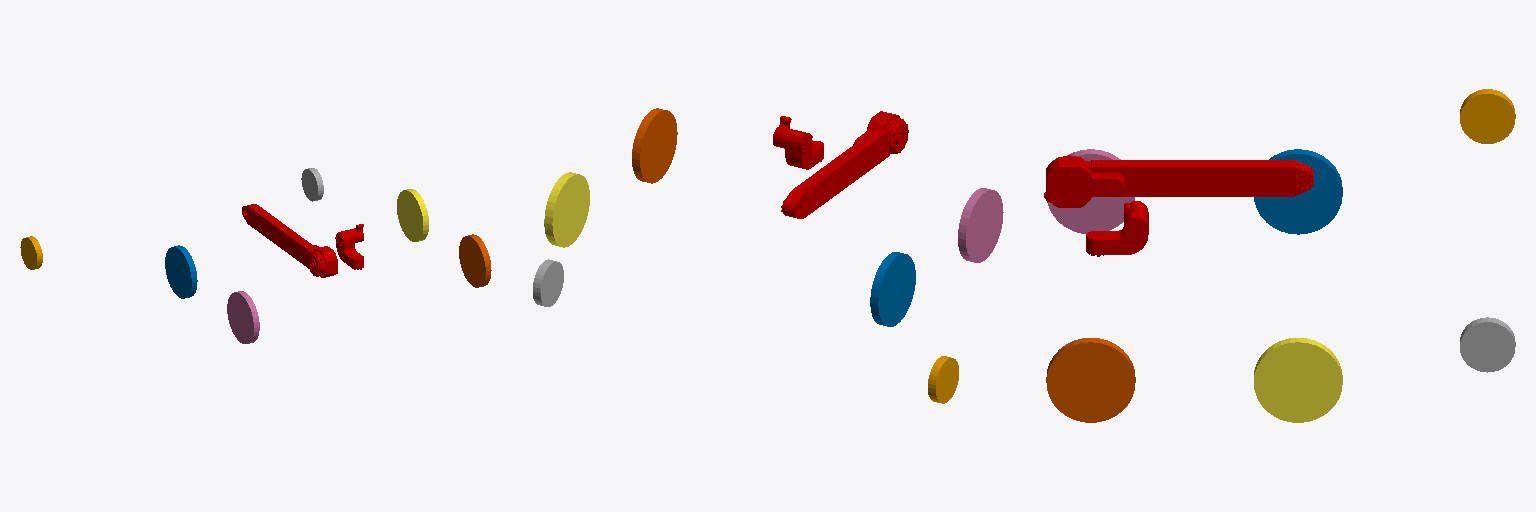
URDF robot description (eng):
<?xml version="1.0" ?>
<!-- =================================================================================== -->
<!-- |    This document was autogenerated by xacro from eng.xacro                    | -->
<!-- |    EDITING THIS FILE BY HAND IS NOT RECOMMENDED                                 | -->
<!-- =================================================================================== -->
<!-- Revolute-Revolute Manipulator -->
<robot name="eng" xmlns:xacro="http://www.ros.org/wiki/xacro">
  <!-- Constants for robot dimensions -->
  <!-- Square dimensions (width x width) of beams  0.1-->
  <!--was 0.397-->
  <!--was 0.1789-->
  <!-- old 0.102 is double radius without ground_clearance 0.07683 -->
  <!--was 0.09-->
  <!--was 0.09-->
  <!--old 0.05 0.02517-->
  <!-- ros_control plugin -->
  <gazebo>
    <plugin filename="libgazebo_ros_control.so" name="gazebo_ros_control">
      <robotNamespace>/eng</robotNamespace>
      <robotSimType>gazebo_ros_control/DefaultRobotHWSim</robotSimType>
    </plugin>
  </gazebo>
  <gazebo reference="base_link">
    <material>Gazebo/Orange</material>
  </gazebo>
  <gazebo reference="left_flipper">
    <mu1>0.01</mu1>
    <mu2>0.01</mu2>
    <material>Gazebo/Grey</material>
  </gazebo>
  <gazebo reference="right_flipper">
    <mu1>0.01</mu1>
    <mu2>0.01</mu2>
    <material>Gazebo/Grey</material>
  </gazebo>
  <gazebo reference="right_front_base_link">
    <mu1>10000</mu1>
    <mu2>10000</mu2>
    <material>Gazebo/Grey</material>
  </gazebo>
  <gazebo reference="left_front_base_link_wheel">
    <mu1>10000</mu1>
    <mu2>10000</mu2>
    <material>Gazebo/Grey</material>
  </gazebo>
  <gazebo reference="right_rear_base_link_wheel">
    <mu1>10000</mu1>
    <mu2>10000</mu2>
    <material>Gazebo/Grey</material>
  </gazebo>
  <gazebo reference="left_rear_base_link_wheel">
    <mu1>10000</mu1>
    <mu2>10000</mu2>
    <material>Gazebo/Grey</material>
  </gazebo>
  <gazebo reference="right_flipper_wheel">
    <mu1>10000</mu1>
    <mu2>10000</mu2>
    <material>Gazebo/Grey</material>
  </gazebo>
  <gazebo reference="left_flipper_wheel">
    <mu1>10000</mu1>
    <mu2>10000</mu2>
    <material>Gazebo/Grey</material>
  </gazebo>
  <material name="black">
    <color rgba="0.0 0.0 0.0 1.0"/>
  </material>
  <material name="blue">
    <color rgba="0.0 0.0 0.8 1.0"/>
  </material>
  <material name="green">
    <color rgba="0.0 0.8 0.0 1.0"/>
  </material>
  <material name="grey">
    <color rgba="0.2 0.2 0.2 1.0"/>
  </material>
  <material name="orange">
    <color rgba="1.0 0.423529411765 0.0392156862745 1.0"/>
  </material>
  <material name="brown">
    <color rgba="0.870588235294 0.811764705882 0.764705882353 1.0"/>
  </material>
  <material name="red">
    <color rgba="0.8 0.0 0.0 1.0"/>
  </material>
  <material name="white">
    <color rgba="1.0 1.0 1.0 1.0"/>
  </material>
  <link name="base_link">
    <visual>
      <origin rpy="0 0 0" xyz="0 0 0"/>
      <geometry>
        <mesh filename="package://eng_description/meshes/Base.dae" scale="1 1 1"/>
      </geometry>
      <material name="orange"/>
      --&gt;

    </visual>
    <collision>
      <origin rpy="0 0 0" xyz="0 0 0"/>
      <geometry>
        <mesh filename="package://eng_description/meshes/Base.dae" scale="1 1 1"/>
      </geometry>
    </collision>
    <inertial>
      <origin rpy="0 0 0" xyz="0 0 0"/>
      <mass value="10"/>
      <inertia ixx="1" ixy="0.0" ixz="0.0" iyy="1" iyz="0.0" izz="1"/>
    </inertial>
  </link>
  <link name="right_flipper">
    <visual>
      <origin rpy="0 0 0" xyz="0 0 0"/>
      <geometry>
        <mesh filename="package://eng_description/meshes/Flipper.dae" scale="1 1 1"/>
      </geometry>
      <material name="black"/>
      --&gt;

    </visual>
    <collision>
      <origin rpy="0 0 0" xyz="0 0 0"/>
      <geometry>
        <mesh filename="package://eng_description/meshes/Flipper.dae" scale="1 1 1"/>
      </geometry>
    </collision>
    <inertial>
      <origin rpy="0 0 0" xyz="0 0 0"/>
      <mass value="0.775"/>
      <inertia ixx="1" ixy="0.0" ixz="0.0" iyy="1" iyz="0.0" izz="1"/>
    </inertial>
  </link>
  <joint name="joint_right_flipper" type="revolute">
    <parent link="base_link"/>
    <child link="right_flipper"/>
    <origin rpy="0 0 0" xyz="2.2 1.86 -0.25"/>
    <axis xyz="1 0 0"/>
    <limit effort="100" lower="-6.283" upper="6.283" velocity="100"/>
  </joint>
  <transmission name="tran_joint_right_flipper">
    <type>transmission_interface/SimpleTransmission</type>
    <joint name="joint_right_flipper">
      <hardwareInterface>EffortJointInterface</hardwareInterface>
    </joint>
    <actuator name="motor_joint_right_flipper">
      <hardwareInterface>EffortJointInterface</hardwareInterface>
      <mechanicalReduction>1</mechanicalReduction>
    </actuator>
  </transmission>
  <link name="left_flipper">
    <visual>
      <origin rpy="0 0 0" xyz="0 0 0"/>
      <geometry>
        <mesh filename="package://eng_description/meshes/Flipper.dae" scale="1 1 1"/>
      </geometry>
      <material name="black"/>
      --&gt;

    </visual>
    <collision>
      <origin rpy="0 0 0" xyz="0 0 0"/>
      <geometry>
        <mesh filename="package://eng_description/meshes/Flipper.dae" scale="1 1 1"/>
      </geometry>
    </collision>
    <inertial>
      <origin rpy="0 0 0" xyz="0 0 0"/>
      <mass value="0.775"/>
      <inertia ixx="1" ixy="0.0" ixz="0.0" iyy="1" iyz="0.0" izz="1"/>
    </inertial>
  </link>
  <joint name="joint_left_flipper" type="revolute">
    <parent link="base_link"/>
    <child link="left_flipper"/>
    <origin rpy="0 3.1415 0" xyz="-2.2 1.86 -0.25"/>
    <axis xyz="1 0 0"/>
    <limit effort="100" lower="-6.283" upper="6.283" velocity="100"/>
  </joint>
  <transmission name="tran_joint_left_flipper">
    <type>transmission_interface/SimpleTransmission</type>
    <joint name="joint_left_flipper">
      <hardwareInterface>EffortJointInterface</hardwareInterface>
    </joint>
    <actuator name="motor_joint_left_flipper">
      <hardwareInterface>EffortJointInterface</hardwareInterface>
      <mechanicalReduction>1</mechanicalReduction>
    </actuator>
  </transmission>
  <link name="right_front_base_link_wheel">
    <visual>
      <origin rpy="0 0 0" xyz="0 0 0"/>
      <geometry>
        <cylinder length="0.2" radius="0.8"/>
      </geometry>
    </visual>
    <collision>
      <origin rpy="0 0 0" xyz="0 0 0"/>
      <geometry>
        <cylinder length="0.2" radius="0.8"/>
      </geometry>
    </collision>
    <inertial>
      <origin rpy="0 0 0" xyz="0 0 0"/>
      <mass value="0.0001"/>
      <inertia ixx="1" ixy="0.0" ixz="0.0" iyy="1" iyz="0.0" izz="1"/>
    </inertial>
  </link>
  <joint name="joint_right_front_base_link_wheel" type="continuous">
    <parent link="base_link"/>
    <child link="right_front_base_link_wheel"/>
    <origin rpy="0 1.57075 3.1415" xyz="4 1.86 -0.25"/>
    <axis xyz="0 0 1"/>
    <limit effort="100" velocity="20"/>
  </joint>
  <transmission name="tran_joint_right_front_base_link_wheel">
    <type>transmission_interface/SimpleTransmission</type>
    <joint name="joint_right_front_base_link_wheel">
      <hardwareInterface>VelocityJointInterface</hardwareInterface>
    </joint>
    <actuator name="motor_joint_right_front_base_link_wheel">
      <hardwareInterface>VelocityJointInterface</hardwareInterface>
      <mechanicalReduction>1</mechanicalReduction>
    </actuator>
  </transmission>
  <link name="left_front_base_link_wheel">
    <visual>
      <origin rpy="0 0 0" xyz="0 0 0"/>
      <geometry>
        <cylinder length="0.2" radius="0.8"/>
      </geometry>
    </visual>
    <collision>
      <origin rpy="0 0 0" xyz="0 0 0"/>
      <geometry>
        <cylinder length="0.2" radius="0.8"/>
      </geometry>
    </collision>
    <inertial>
      <origin rpy="0 0 0" xyz="0 0 0"/>
      <mass value="0.0001"/>
      <inertia ixx="1" ixy="0.0" ixz="0.0" iyy="1" iyz="0.0" izz="1"/>
    </inertial>
  </link>
  <joint name="joint_left_front_base_link_wheel" type="continuous">
    <parent link="base_link"/>
    <child link="left_front_base_link_wheel"/>
    <origin rpy="0 1.57075 3.1415" xyz="-4 1.86 -0.25"/>
    <axis xyz="0 0 1"/>
    <limit effort="100" velocity="20"/>
  </joint>
  <transmission name="tran_joint_left_front_base_link_wheel">
    <type>transmission_interface/SimpleTransmission</type>
    <joint name="joint_left_front_base_link_wheel">
      <hardwareInterface>VelocityJointInterface</hardwareInterface>
    </joint>
    <actuator name="motor_joint_left_front_base_link_wheel">
      <hardwareInterface>VelocityJointInterface</hardwareInterface>
      <mechanicalReduction>1</mechanicalReduction>
    </actuator>
  </transmission>
  <link name="right_rear_base_link_wheel">
    <visual>
      <origin rpy="0 0 0" xyz="0 0 0"/>
      <geometry>
        <cylinder length="0.2" radius="0.8"/>
      </geometry>
    </visual>
    <collision>
      <origin rpy="0 0 0" xyz="0 0 0"/>
      <geometry>
        <cylinder length="0.2" radius="0.8"/>
      </geometry>
    </collision>
    <inertial>
      <origin rpy="0 0 0" xyz="0 0 0"/>
      <mass value="0.0001"/>
      <inertia ixx="1" ixy="0.0" ixz="0.0" iyy="1" iyz="0.0" izz="1"/>
    </inertial>
  </link>
  <joint name="joint_right_rear_base_link_wheel" type="continuous">
    <parent link="base_link"/>
    <child link="right_rear_base_link_wheel"/>
    <origin rpy="0 1.57075 3.1415" xyz="4 -1.86 -0.25"/>
    <axis xyz="0 0 1"/>
    <limit effort="100" velocity="20"/>
  </joint>
  <transmission name="tran_joint_right_rear_base_link_wheel">
    <type>transmission_interface/SimpleTransmission</type>
    <joint name="joint_right_rear_base_link_wheel">
      <hardwareInterface>VelocityJointInterface</hardwareInterface>
    </joint>
    <actuator name="motor_joint_right_rear_base_link_wheel">
      <hardwareInterface>VelocityJointInterface</hardwareInterface>
      <mechanicalReduction>1</mechanicalReduction>
    </actuator>
  </transmission>
  <link name="left_rear_base_link_wheel">
    <visual>
      <origin rpy="0 0 0" xyz="0 0 0"/>
      <geometry>
        <cylinder length="0.2" radius="0.8"/>
      </geometry>
    </visual>
    <collision>
      <origin rpy="0 0 0" xyz="0 0 0"/>
      <geometry>
        <cylinder length="0.2" radius="0.8"/>
      </geometry>
    </collision>
    <inertial>
      <origin rpy="0 0 0" xyz="0 0 0"/>
      <mass value="0.0001"/>
      <inertia ixx="1" ixy="0.0" ixz="0.0" iyy="1" iyz="0.0" izz="1"/>
    </inertial>
  </link>
  <joint name="joint_left_rear_base_link_wheel" type="continuous">
    <parent link="base_link"/>
    <child link="left_rear_base_link_wheel"/>
    <origin rpy="0 1.57075 3.1415" xyz="-4 -1.86 -0.25"/>
    <axis xyz="0 0 1"/>
    <limit effort="100" velocity="20"/>
  </joint>
  <transmission name="tran_joint_left_rear_base_link_wheel">
    <type>transmission_interface/SimpleTransmission</type>
    <joint name="joint_left_rear_base_link_wheel">
      <hardwareInterface>VelocityJointInterface</hardwareInterface>
    </joint>
    <actuator name="motor_joint_left_rear_base_link_wheel">
      <hardwareInterface>VelocityJointInterface</hardwareInterface>
      <mechanicalReduction>1</mechanicalReduction>
    </actuator>
  </transmission>
  <link name="right_flipper_wheel">
    <visual>
      <origin rpy="0 0 0" xyz="0 0 0"/>
      <geometry>
        <cylinder length="0.2" radius="0.5"/>
      </geometry>
    </visual>
    <collision>
      <origin rpy="0 0 0" xyz="0 0 0"/>
      <geometry>
        <cylinder length="0.2" radius="0.5"/>
      </geometry>
    </collision>
    <inertial>
      <origin rpy="0 0 0" xyz="0 0 0"/>
      <mass value="0.0001"/>
      <inertia ixx="1" ixy="0.0" ixz="0.0" iyy="1" iyz="0.0" izz="1"/>
    </inertial>
  </link>
  <joint name="joint_right_flipper_wheel" type="continuous">
    <parent link="right_flipper"/>
    <child link="right_flipper_wheel"/>
    <origin rpy="0 1.57075 3.1415" xyz="0.3 3.4 0"/>
    <axis xyz="0 0 1"/>
    <limit effort="100" velocity="20"/>
  </joint>
  <transmission name="tran_joint_right_flipper_wheel">
    <type>transmission_interface/SimpleTransmission</type>
    <joint name="joint_right_flipper_wheel">
      <hardwareInterface>VelocityJointInterface</hardwareInterface>
    </joint>
    <actuator name="motor_joint_right_flipper_wheel">
      <hardwareInterface>VelocityJointInterface</hardwareInterface>
      <mechanicalReduction>1</mechanicalReduction>
    </actuator>
  </transmission>
  <link name="left_flipper_wheel">
    <visual>
      <origin rpy="0 0 0" xyz="0 0 0"/>
      <geometry>
        <cylinder length="0.2" radius="0.5"/>
      </geometry>
    </visual>
    <collision>
      <origin rpy="0 0 0" xyz="0 0 0"/>
      <geometry>
        <cylinder length="0.2" radius="0.5"/>
      </geometry>
    </collision>
    <inertial>
      <origin rpy="0 0 0" xyz="0 0 0"/>
      <mass value="0.0001"/>
      <inertia ixx="1" ixy="0.0" ixz="0.0" iyy="1" iyz="0.0" izz="1"/>
    </inertial>
  </link>
  <joint name="joint_left_flipper_wheel" type="continuous">
    <parent link="left_flipper"/>
    <child link="left_flipper_wheel"/>
    <origin rpy="0 1.57075 3.1415" xyz="5 3.4 0"/>
    <axis xyz="0 0 1"/>
    <limit effort="100" velocity="20"/>
  </joint>
  <transmission name="tran_joint_left_flipper_wheel">
    <type>transmission_interface/SimpleTransmission</type>
    <joint name="joint_left_flipper_wheel">
      <hardwareInterface>VelocityJointInterface</hardwareInterface>
    </joint>
    <actuator name="motor_joint_left_flipper_wheel">
      <hardwareInterface>VelocityJointInterface</hardwareInterface>
      <mechanicalReduction>1</mechanicalReduction>
    </actuator>
  </transmission>
  <link name="cronstein">
    <visual>
      <origin rpy="0 0 0" xyz="0 0 0"/>
      <geometry>
        <mesh filename="package://eng_description/meshes/cronstain2.dae" scale="1 1 1"/>
      </geometry>
      <material name="red"/>
      --&gt;

    </visual>
    <collision>
      <origin rpy="0 0 0" xyz="0 0 0"/>
      <geometry>
        <mesh filename="package://eng_description/meshes/cronstain2.dae" scale="1 1 1"/>
      </geometry>
    </collision>
    <inertial>
      <origin rpy="0 0 0" xyz="0 0 0"/>
      <mass value="0.477"/>
      <inertia ixx="1" ixy="0.0" ixz="0.0" iyy="1" iyz="0.0" izz="1"/>
    </inertial>
  </link>
  <joint name="joint_cronstein" type="revolute">
    <parent link="base_link"/>
    <child link="cronstein"/>
    <origin rpy="0 1.57075 1.57075" xyz="0 -1.75 0.6"/>
    <axis xyz="1 0 0"/>
    <limit effort="100" lower="-6.283" upper="6.283" velocity="100"/>
  </joint>
  <transmission name="tran_joint_cronstein">
    <type>transmission_interface/SimpleTransmission</type>
    <joint name="joint_cronstein">
      <hardwareInterface>EffortJointInterface</hardwareInterface>
    </joint>
    <actuator name="motor_joint_cronstein">
      <hardwareInterface>EffortJointInterface</hardwareInterface>
      <mechanicalReduction>1</mechanicalReduction>
    </actuator>
  </transmission>
  <!--x="0.5" y="-1.05" z="1.1" roll="0" pitch="${PI*0.5}" yaw="${PI*0.5}" axis="0 0 1"/>-->
  <link name="first_part">
    <visual>
      <origin rpy="0 0 0" xyz="0 0 0"/>
      <geometry>
        <mesh filename="package://eng_description/meshes/first_part_of_arm.dae" scale="0.01 0.01 0.01"/>
      </geometry>
      <material name="red"/>
      --&gt;

    </visual>
    <collision>
      <origin rpy="0 0 0" xyz="0 0 0"/>
      <geometry>
        <mesh filename="package://eng_description/meshes/first_part_of_arm.dae" scale="0.01 0.01 0.01"/>
      </geometry>
    </collision>
    <inertial>
      <origin rpy="0 0 0" xyz="0 0 0"/>
      <mass value="2.231"/>
      <inertia ixx="1" ixy="0.0" ixz="0.0" iyy="1" iyz="0.0" izz="1"/>
    </inertial>
  </link>
  <joint name="joint_first_part" type="revolute">
    <parent link="cronstein"/>
    <child link="first_part"/>
    <origin rpy="3.1415 3.1415 1.57075" xyz="-0.54 0.25 0.7"/>
    <axis xyz="1 0 0"/>
    <limit effort="100" lower="-6.283" upper="6.283" velocity="100"/>
  </joint>
  <transmission name="tran_joint_first_part">
    <type>transmission_interface/SimpleTransmission</type>
    <joint name="joint_first_part">
      <hardwareInterface>EffortJointInterface</hardwareInterface>
    </joint>
    <actuator name="motor_joint_first_part">
      <hardwareInterface>EffortJointInterface</hardwareInterface>
      <mechanicalReduction>1</mechanicalReduction>
    </actuator>
  </transmission>
  <link name="second_part">
    <visual>
      <origin rpy="0 0 0" xyz="0 0 0"/>
      <geometry>
        <mesh filename="package://eng_description/meshes/second_part_of_arm.dae" scale="0.01 0.01 0.01"/>
      </geometry>
      <material name="red"/>
      --&gt;

    </visual>
    <collision>
      <origin rpy="0 0 0" xyz="0 0 0"/>
      <geometry>
        <mesh filename="package://eng_description/meshes/second_part_of_arm.dae" scale="0.01 0.01 0.01"/>
      </geometry>
    </collision>
    <inertial>
      <origin rpy="0 0 0" xyz="0 0 0"/>
      <mass value="2.231"/>
      <inertia ixx="1" ixy="0.0" ixz="0.0" iyy="1" iyz="0.0" izz="1"/>
    </inertial>
  </link>
  <joint name="joint_second_part" type="revolute">
    <parent link="first_part"/>
    <child link="second_part"/>
    <origin rpy="0 0 3.1415" xyz="-1.5 0 3"/>
    <axis xyz="1 0 0"/>
    <limit effort="100" lower="-6.283" upper="6.283" velocity="100"/>
  </joint>
  <transmission name="tran_joint_second_part">
    <type>transmission_interface/SimpleTransmission</type>
    <joint name="joint_second_part">
      <hardwareInterface>EffortJointInterface</hardwareInterface>
    </joint>
    <actuator name="motor_joint_second_part">
      <hardwareInterface>EffortJointInterface</hardwareInterface>
      <mechanicalReduction>1</mechanicalReduction>
    </actuator>
  </transmission>
  <link name="head">
    <visual>
      <origin rpy="0 0 0" xyz="0 0 0"/>
      <geometry>
        <mesh filename="package://eng_description/meshes/head.dae" scale="0.01 0.01 0.01"/>
      </geometry>
      <material name="red"/>
      --&gt;

    </visual>
    <collision>
      <origin rpy="0 0 0" xyz="0 0 0"/>
      <geometry>
        <mesh filename="package://eng_description/meshes/head.dae" scale="0.01 0.01 0.01"/>
      </geometry>
    </collision>
    <inertial>
      <origin rpy="0 0 0" xyz="0 0 0"/>
      <mass value="2.231"/>
      <inertia ixx="1" ixy="0.0" ixz="0.0" iyy="1" iyz="0.0" izz="1"/>
    </inertial>
  </link>
  <joint name="joint_head" type="revolute">
    <parent link="second_part"/>
    <child link="head"/>
    <origin rpy="3.1415 0.0 3.1415" xyz="0.5 0 -4.2"/>
    <axis xyz="1 0 0"/>
    <limit effort="100" lower="-6.283" upper="6.283" velocity="100"/>
  </joint>
  <transmission name="tran_joint_head">
    <type>transmission_interface/SimpleTransmission</type>
    <joint name="joint_head">
      <hardwareInterface>EffortJointInterface</hardwareInterface>
    </joint>
    <actuator name="motor_joint_head">
      <hardwareInterface>EffortJointInterface</hardwareInterface>
      <mechanicalReduction>1</mechanicalReduction>
    </actuator>
  </transmission>
</robot>

--- Facts derived from the render (not from the file) ---
Views: 3 orthographic renders of the robot side by side, from view 1: azimuth 30°, elevation 25°; view 2: azimuth 150°, elevation 25°; view 3: azimuth 270°, elevation 25°.
Model eng with 13 links and 12 joints (6 revolute, 6 continuous), rooted at base_link, posed every joint at zero.
Visible links, largest first — view 1: second_part, left_rear_base_link_wheel, right_front_base_link_wheel, left_front_base_link_wheel, right_rear_base_link_wheel, cronstein, left_flipper_wheel, right_flipper_wheel; view 2: second_part, right_front_base_link_wheel, left_front_base_link_wheel, left_rear_base_link_wheel, right_rear_base_link_wheel, cronstein, left_flipper_wheel, right_flipper_wheel; view 3: second_part, right_rear_base_link_wheel, right_front_base_link_wheel, left_front_base_link_wheel, right_flipper_wheel, left_flipper_wheel, left_rear_base_link_wheel, cronstein.
Link boxes in pixels (box(x1,y1,x2,y2)): second_part: box(242, 204, 337, 277); left_rear_base_link_wheel: box(227, 291, 259, 343); right_front_base_link_wheel: box(397, 189, 428, 241); left_front_base_link_wheel: box(165, 245, 197, 298); right_rear_base_link_wheel: box(459, 234, 491, 287); cronstein: box(335, 224, 363, 269); left_flipper_wheel: box(20, 236, 42, 269); right_flipper_wheel: box(301, 168, 323, 201); second_part: box(781, 111, 908, 218); right_front_base_link_wheel: box(544, 172, 589, 247); left_front_base_link_wheel: box(870, 252, 915, 326); left_rear_base_link_wheel: box(958, 188, 1003, 262); right_rear_base_link_wheel: box(632, 108, 677, 183); cronstein: box(773, 116, 823, 169); left_flipper_wheel: box(928, 356, 958, 403); right_flipper_wheel: box(533, 259, 563, 306); second_part: box(1044, 155, 1313, 207); right_rear_base_link_wheel: box(1046, 338, 1135, 422); right_front_base_link_wheel: box(1254, 338, 1342, 422); left_front_base_link_wheel: box(1254, 149, 1342, 234); right_flipper_wheel: box(1460, 317, 1515, 372); left_flipper_wheel: box(1460, 89, 1515, 143); left_rear_base_link_wheel: box(1047, 149, 1134, 233); cronstein: box(1086, 201, 1148, 256).
Bounding box of the posed robot: 11.4 × 8.45 × 2.61 m (x, y, z).
Meshes: 6 distinct files referenced, 2 mesh visuals loaded (2 Collada DAE); not drawn: 5 (reference not matched to a file when rendering).
